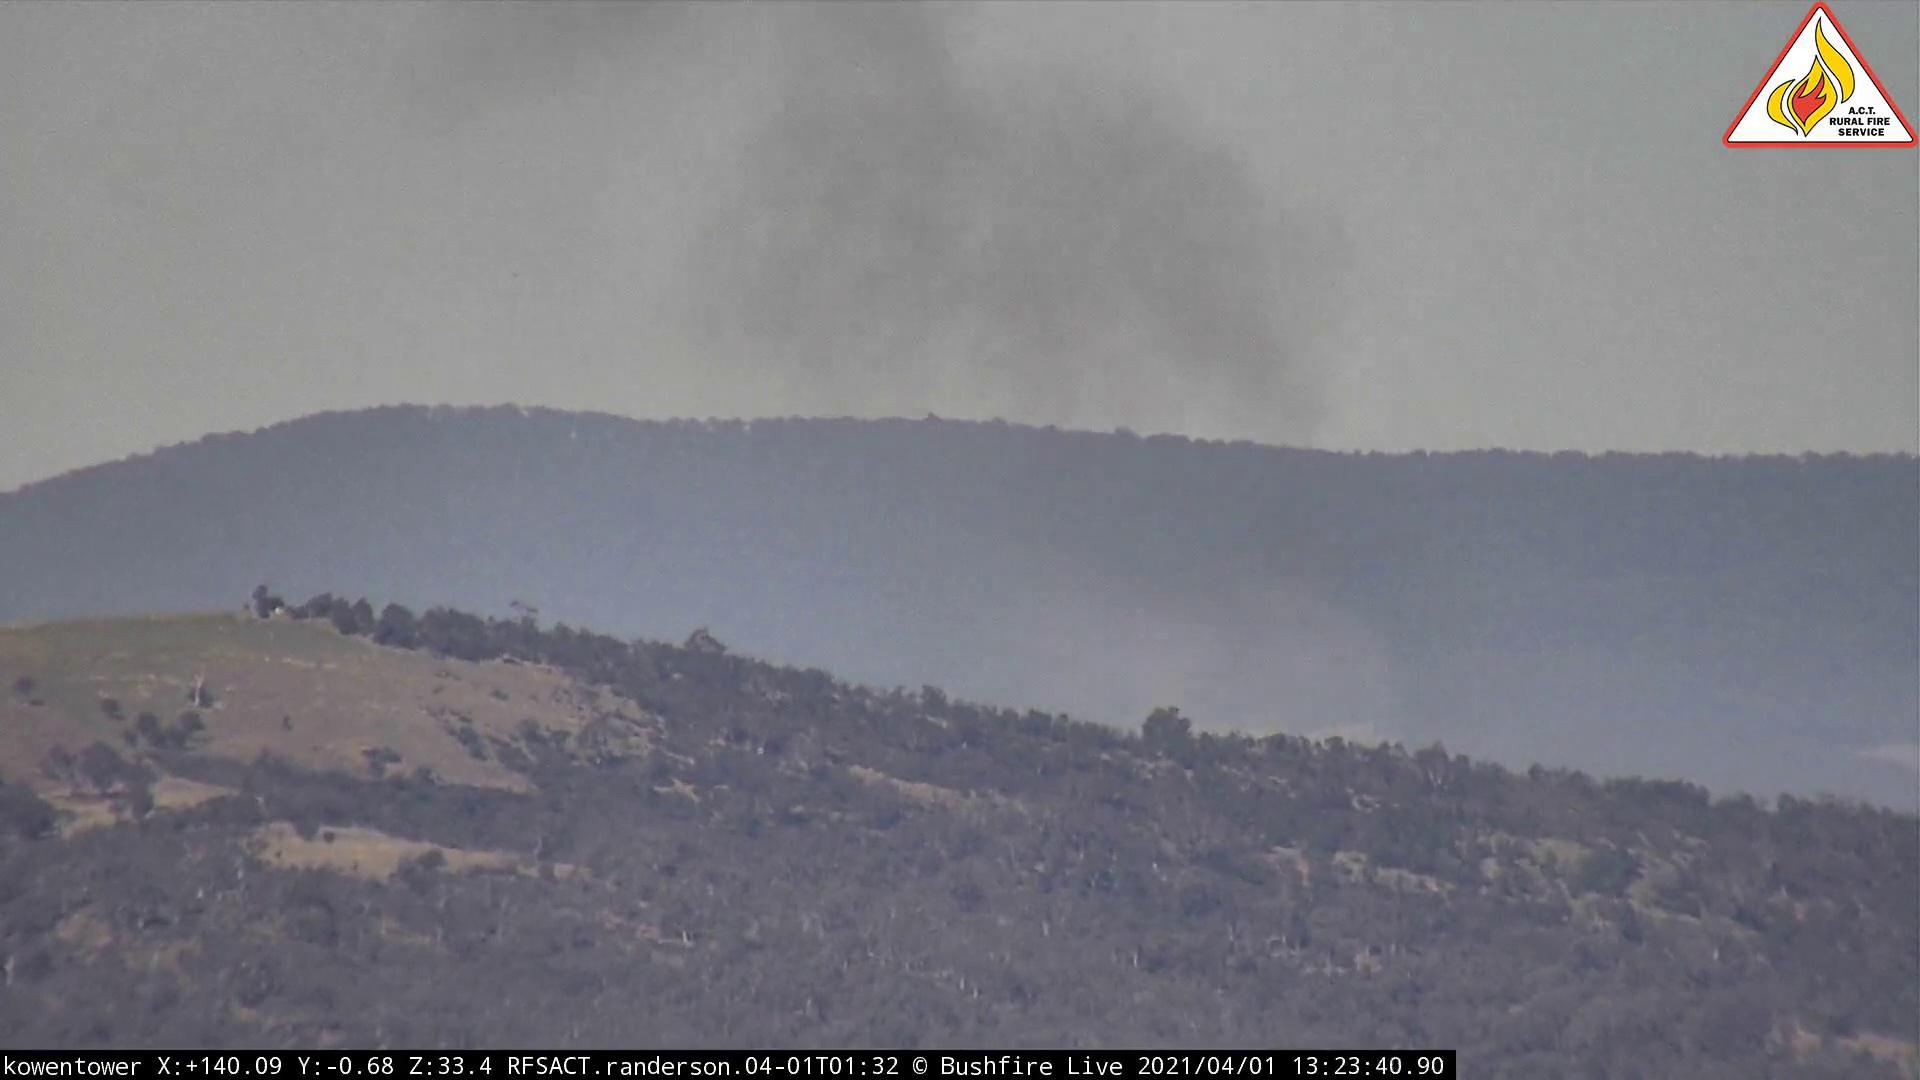Smoke: (390, 3, 1440, 765)
